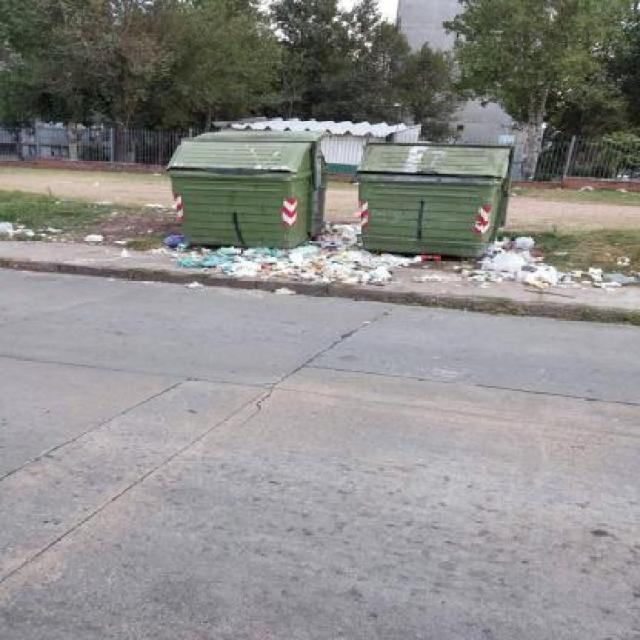garbage: (168, 231, 430, 274), (459, 229, 619, 293), (0, 223, 103, 238), (322, 212, 370, 233)
